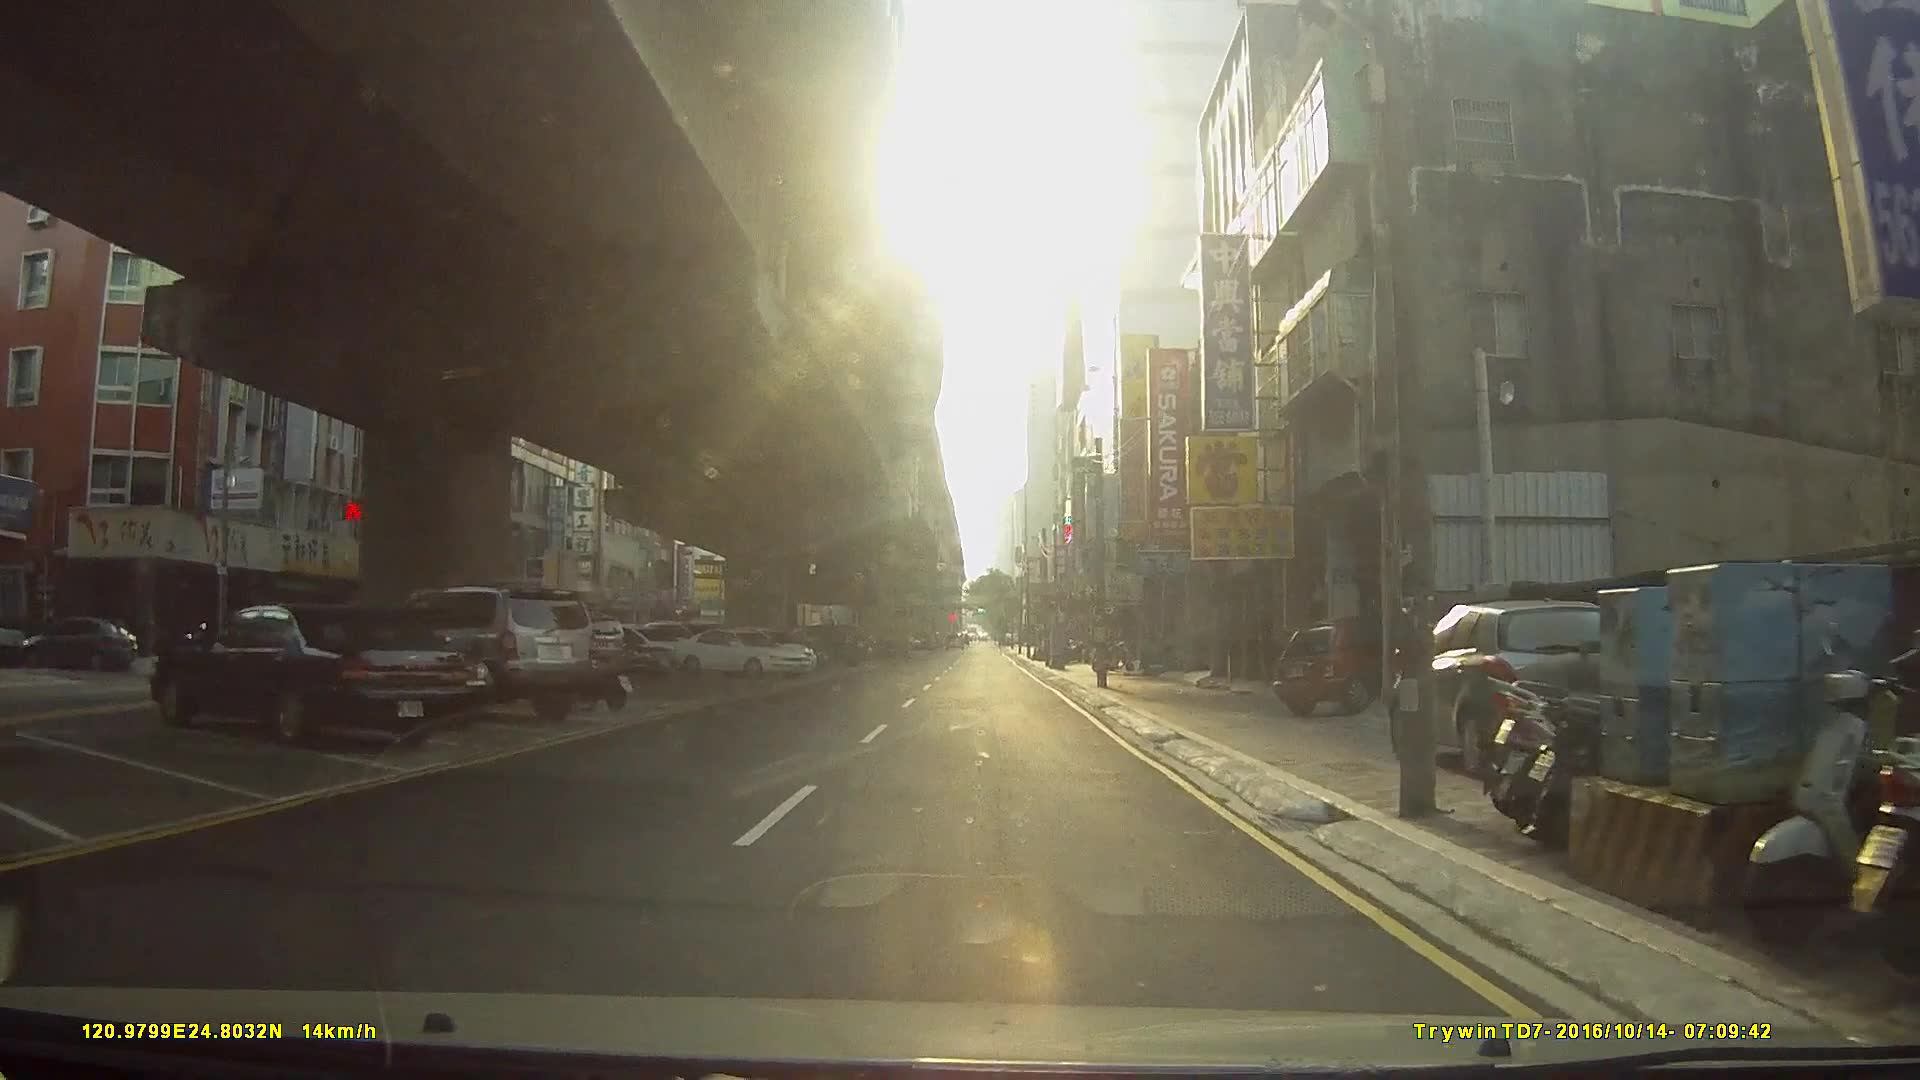vehicle: (146, 601, 467, 746), (1387, 595, 1640, 775), (377, 583, 599, 724), (1274, 612, 1427, 715), (671, 624, 818, 680), (16, 615, 138, 669)
